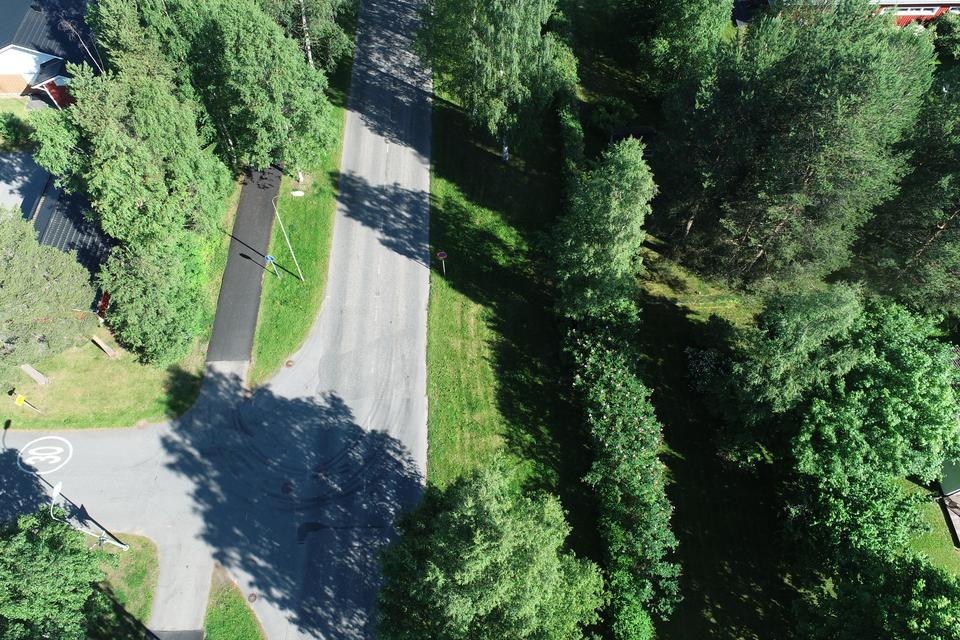intersection: (107, 350, 446, 582)
